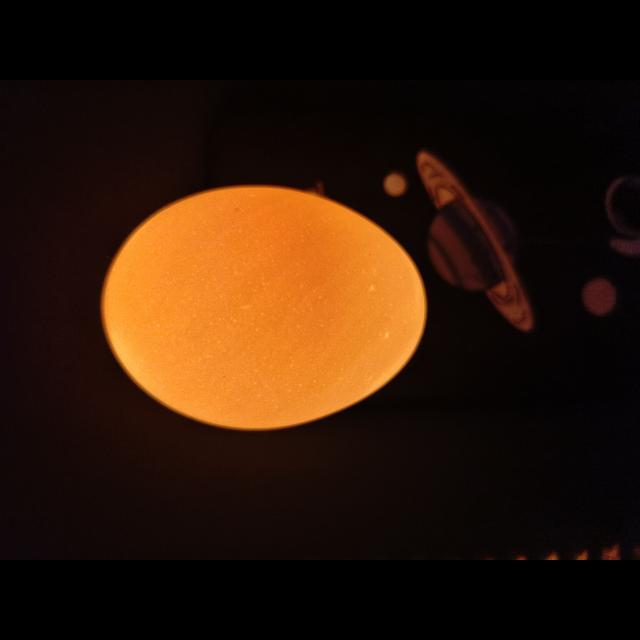AA - Premium: (101, 186, 426, 429)
